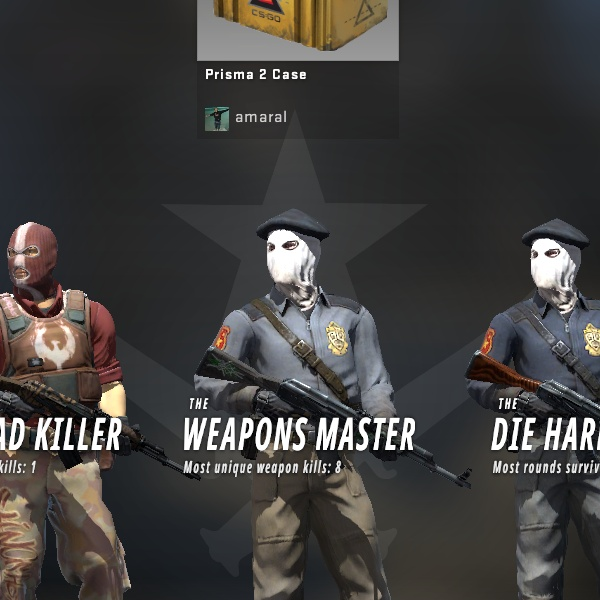t_body: (0, 192, 169, 600)
t_head: (0, 203, 90, 322)
